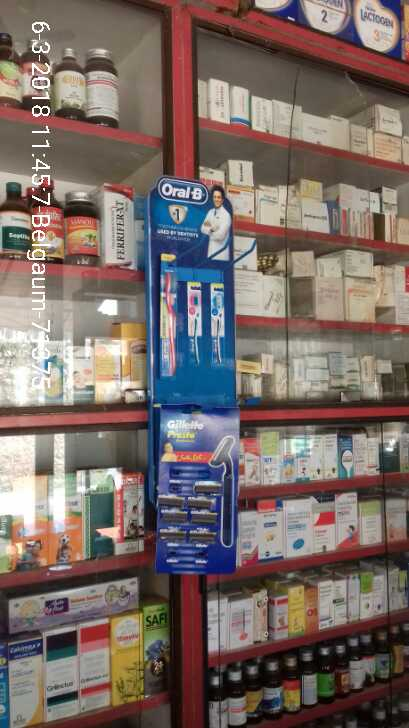beauty: (161, 414, 240, 561)
pharmacy: (157, 261, 235, 382)
